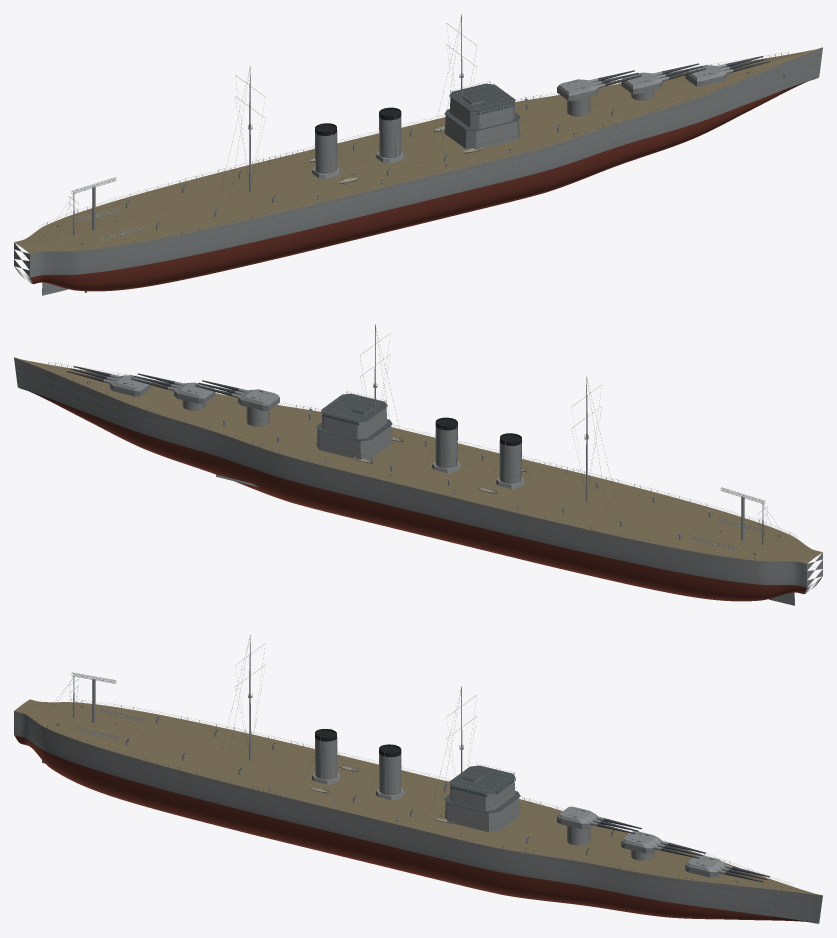
File: incorrigible_bc35.glb
3 renders of one model, top to bottom at view 1: azimuth 30°, elevation 25°; view 2: azimuth 150°, elevation 25°; view 3: azimuth 330°, elevation 25°, orthographic.
Parts seen in each view (by area): view 1: Incorrigible; view 2: Incorrigible; view 3: Incorrigible.
Part boxes in pixels (left/top/right/bottom): Incorrigible: left=14, top=14, right=822, bottom=295; Incorrigible: left=14, top=324, right=822, bottom=605; Incorrigible: left=14, top=634, right=822, bottom=923.
Size of the model in its own units: 285 by 61.75 by 35.09.
Materials: 9 (8 with a texture image).
